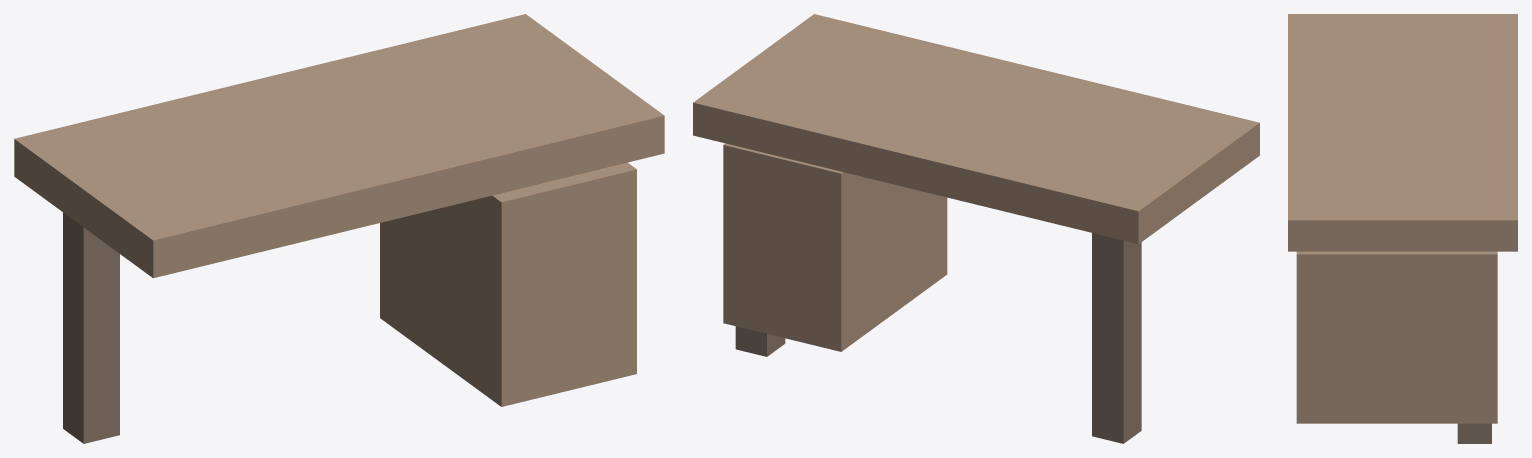
The model's file is desk_basic.glb.
The picture shows the model from 3 angles, left to right: view 1: azimuth 30°, elevation 25°; view 2: azimuth 150°, elevation 25°; view 3: azimuth 270°, elevation 25°; orthographic projection. The views are drawn at different scales.
Parts seen in each view (by area): view 1: part_00, part_03, part_01; view 2: part_00, part_03, part_01, part_02; view 3: part_00, part_03, part_02.
Boxes of the visible parts, bbox=[...] form: part_00: bbox=[14, 14, 664, 278]; part_03: bbox=[380, 162, 636, 406]; part_01: bbox=[63, 212, 119, 443]; part_00: bbox=[693, 14, 1259, 244]; part_03: bbox=[723, 143, 947, 351]; part_01: bbox=[1092, 233, 1141, 443]; part_02: bbox=[735, 326, 785, 356]; part_00: bbox=[1288, 14, 1517, 251]; part_03: bbox=[1296, 251, 1497, 423]; part_02: bbox=[1457, 423, 1491, 443].
Bounding box in the file's own units: 1.7 × 0.91 × 0.8.
